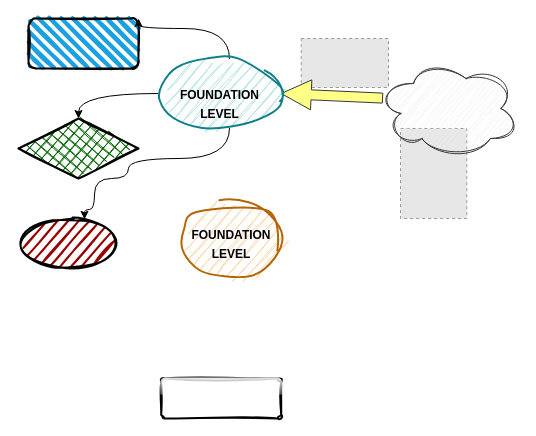
The diagram is 536 pixels wide and 436 high, and some of its shapes have lost their labels. Grey dashed boxes stand in for pictures. Each missing label, with the centre of its shape:
"QA Engineer roadmap" belongs at point (448, 108).
"Task 6 %status%" belongs at point (221, 398).
